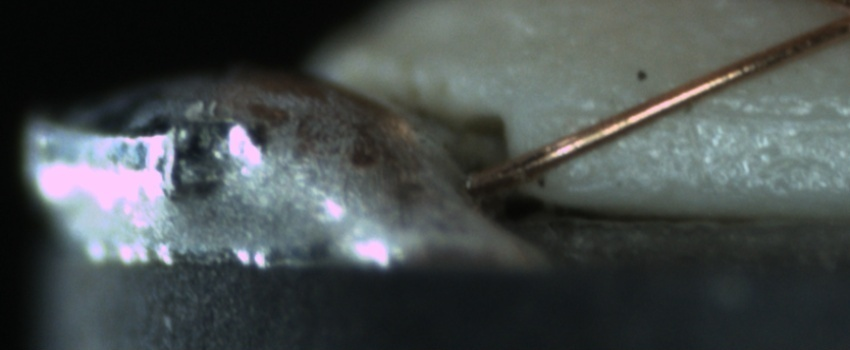DL: (557, 85, 849, 143)
